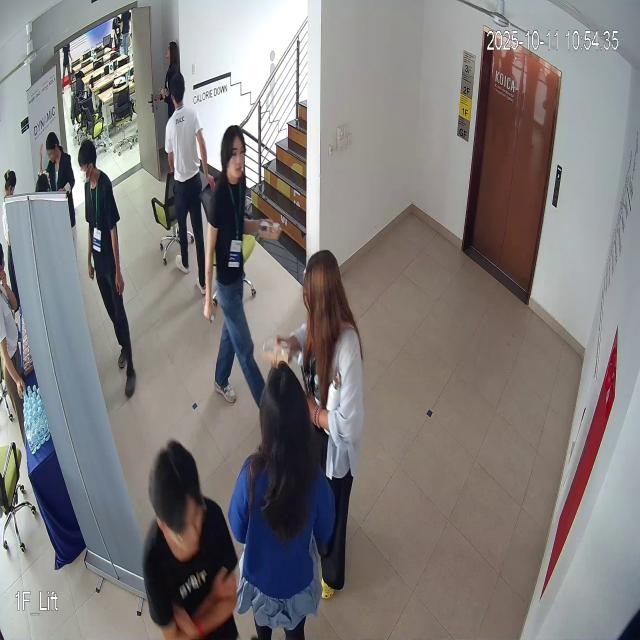face: (222, 118, 251, 189)
